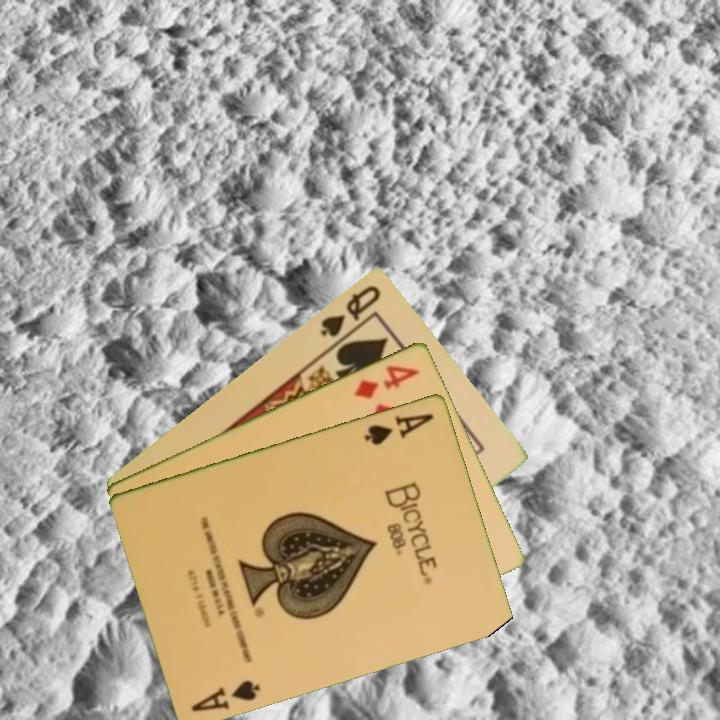4d: (350, 361, 423, 402)
As: (360, 409, 437, 448), (188, 676, 263, 714)
Qs: (316, 281, 384, 340)
